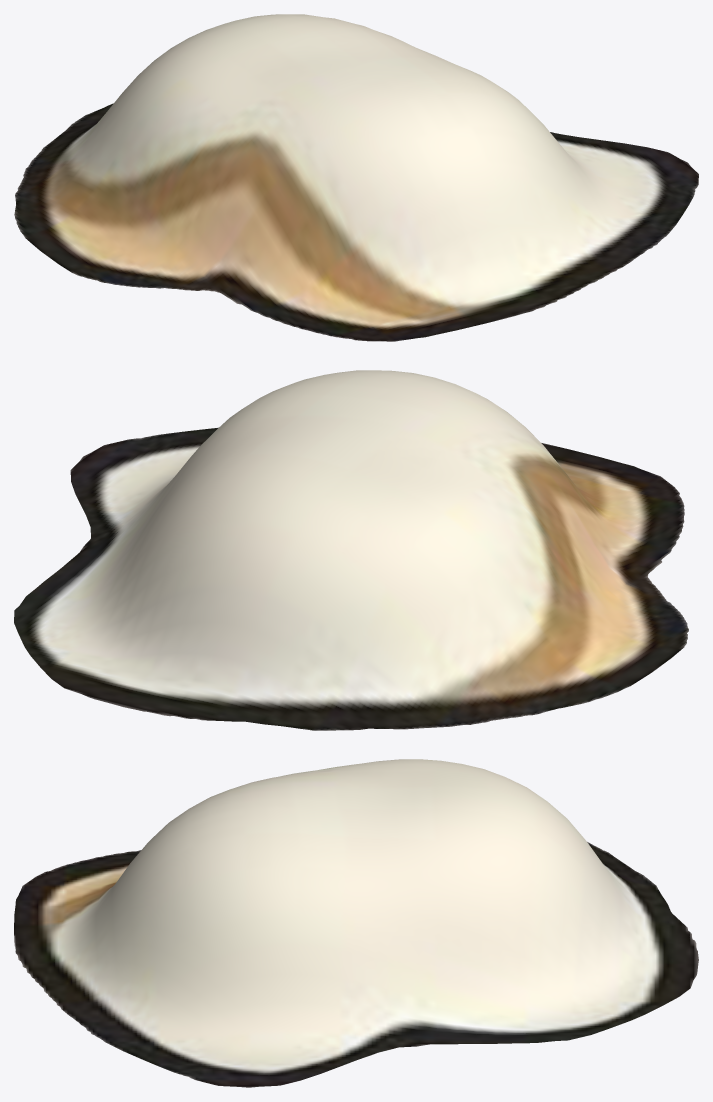
Rendered from 新拼图2.fbx.
3 views of the same model, one above another, from view 1: azimuth 30°, elevation 25°; view 2: azimuth 150°, elevation 25°; view 3: azimuth 270°, elevation 25° (orthographic). The views are drawn at different scales.
Visible parts, largest first — view 1: 平面.001; view 2: 平面.001; view 3: 平面.001.
Part boxes in pixels (x1,y1,x2,y2): 平面.001: (14, 14, 698, 341); 平面.001: (14, 370, 688, 730); 平面.001: (14, 759, 698, 1087).
Size of the model in its own units: 43.23 by 9.8 by 43.4.
Materials: 1 (1 with a texture image).
